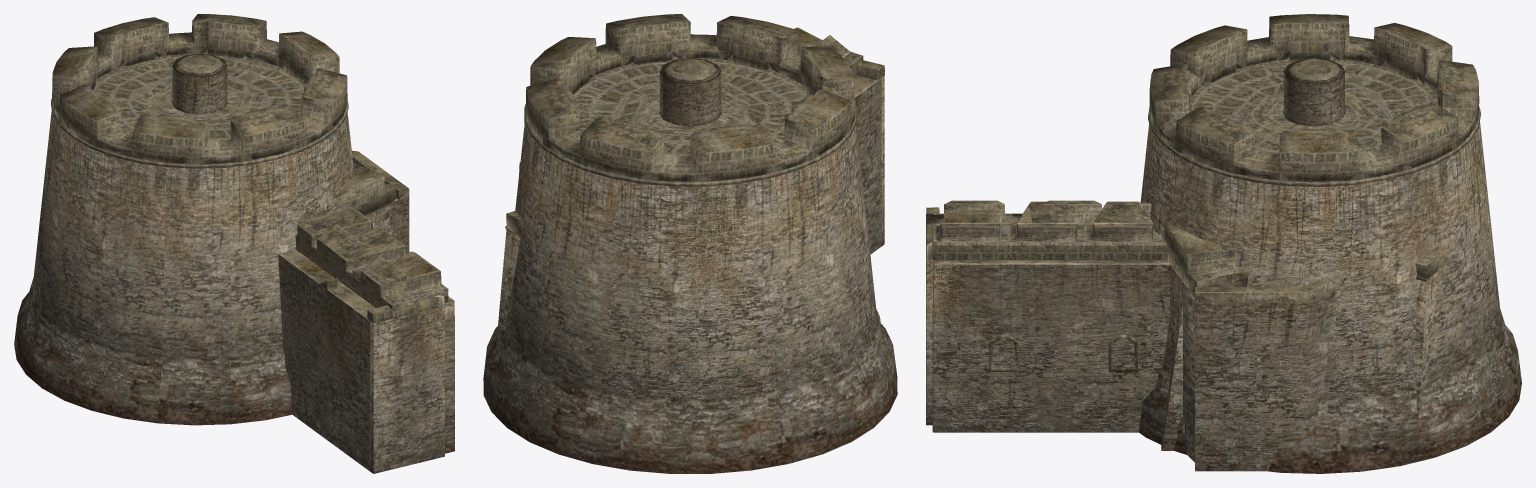
Rendered from fort_kit_lod1.glb.
The picture shows the model from 3 angles, left to right: view 1: azimuth 30°, elevation 25°; view 2: azimuth 150°, elevation 25°; view 3: azimuth 270°, elevation 25°; orthographic projection. The views are drawn at different scales.
Visible parts, largest first — view 1: fort_tower_round, fort_wall_stairs_straight_01, fort_wall_walkway_straight_02, fort_wall_walkway_straight_01, fort_wall_thick_straight_01, fort_wall_thick_straight_02, fort_wall_thick_corner_02, fort_wall_thin_straight_02, fort_wall_thin_straight_01, fort_wall_walkway_corner_01; view 2: fort_tower_round, fort_wall_walkway_straight_01, fort_wall_thin_corner_03, fort_wall_stairs_straight_01; view 3: fort_tower_round, fort_wall_thick_straight_01, fort_wall_walkway_corner_01, fort_wall_thick_straight_02, fort_wall_thick_corner_02, fort_wall_thin_corner_03, fort_wall_thin_straight_02, fort_wall_thick_corner_01, fort_wall_stairs_straight_01.
Boxes of the visible parts, box(x1,y1,x2,y2) form: fort_tower_round: box(14, 14, 353, 425); fort_wall_stairs_straight_01: box(282, 278, 444, 473); fort_wall_walkway_straight_02: box(278, 249, 375, 471); fort_wall_walkway_straight_01: box(278, 254, 432, 469); fort_wall_thick_straight_01: box(295, 201, 454, 453); fort_wall_thick_straight_02: box(297, 201, 454, 445); fort_wall_thick_corner_02: box(332, 162, 395, 235); fort_wall_thin_straight_02: box(295, 211, 416, 473); fort_wall_thin_straight_01: box(296, 211, 416, 317); fort_wall_walkway_corner_01: box(352, 150, 409, 253); fort_tower_round: box(483, 14, 897, 473); fort_wall_walkway_straight_01: box(855, 78, 881, 253); fort_wall_thin_corner_03: box(496, 210, 523, 347); fort_wall_stairs_straight_01: box(855, 60, 884, 245); fort_tower_round: box(1139, 14, 1521, 473); fort_wall_thick_straight_01: box(932, 201, 1169, 432); fort_wall_walkway_corner_01: box(1195, 280, 1335, 471); fort_wall_thick_straight_02: box(933, 201, 1169, 432); fort_wall_thick_corner_02: box(1164, 220, 1248, 462); fort_wall_thin_corner_03: box(1413, 252, 1439, 412); fort_wall_thin_straight_02: box(926, 200, 1140, 232); fort_wall_thick_corner_01: box(1161, 305, 1182, 450); fort_wall_stairs_straight_01: box(926, 207, 939, 425).
Size of the model in its own units: 15.84 by 13.67 by 22.74.
3 materials, 3 textured.
